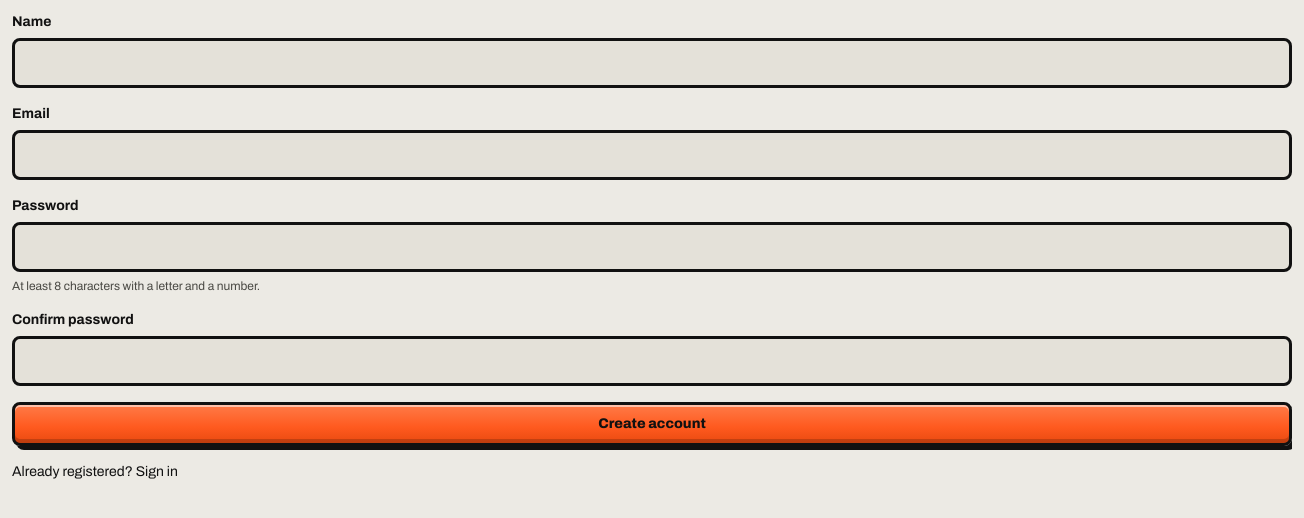
Test: RegisterForm › shows a duplicate email from the server next to the email field
This screenshot has width=1304, height=518.
Step 1. Type "Ada" into the field labelled "Name" → (652, 63), box [12,38,1292,88]
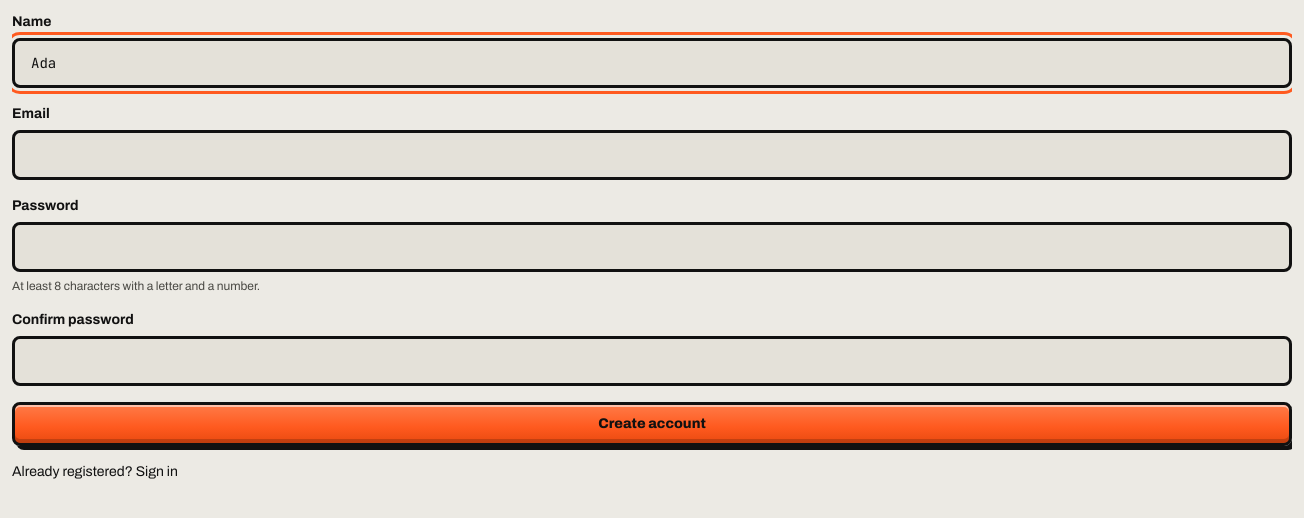
Step 2. Type "ada@example.com" into the field labelled "Email" → (652, 155), box [12,130,1292,180]
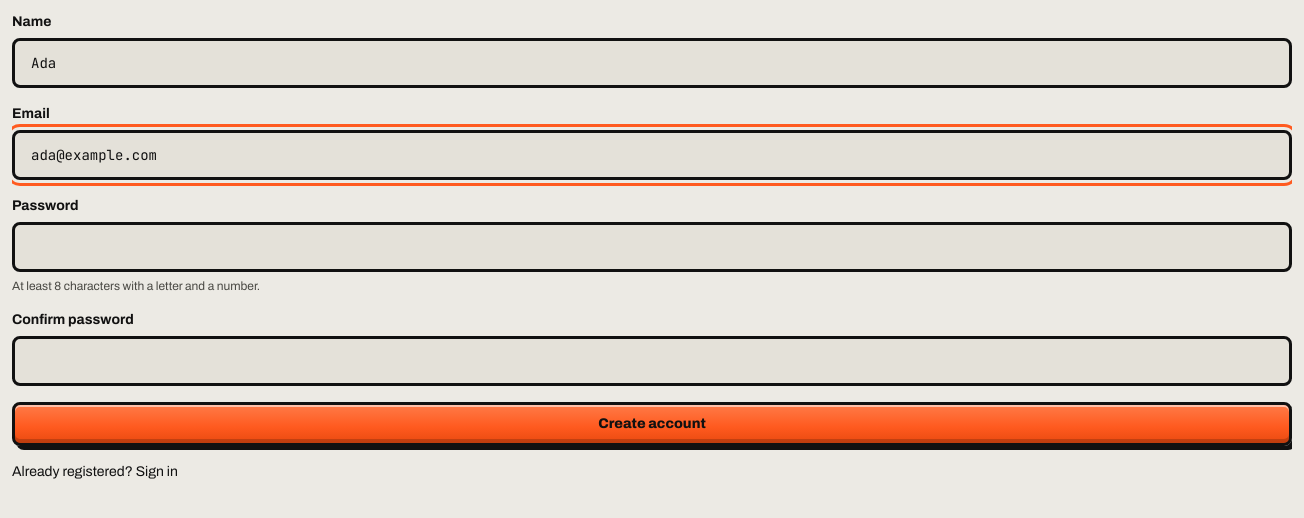
Step 3. Type "Passw0rd1" into the password field labelled "Password" → (652, 247), box [12,222,1292,272]
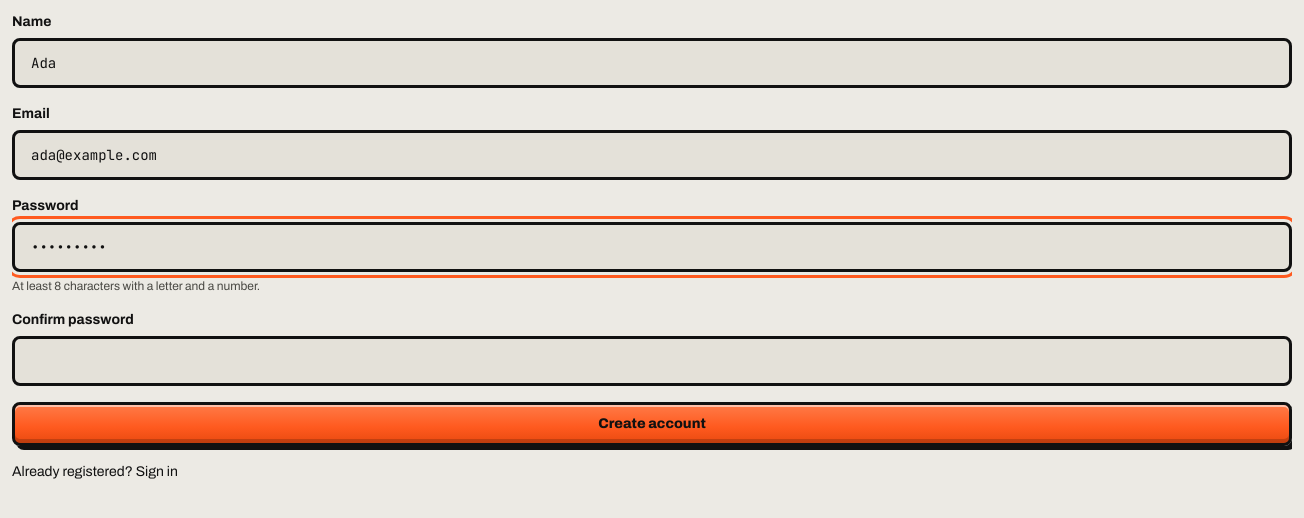
Step 4. Type "Passw0rd1" into the password field labelled "Confirm password" → (652, 361), box [12,336,1292,386]
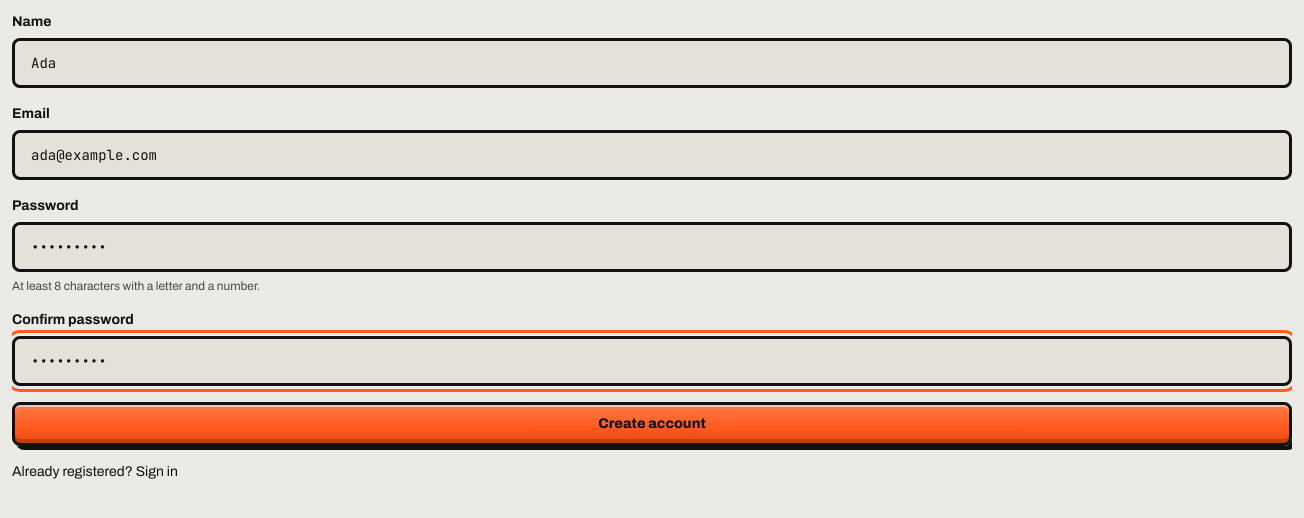
Step 5. Click the button "Create account" → click(652, 424), box [12,402,1292,446]
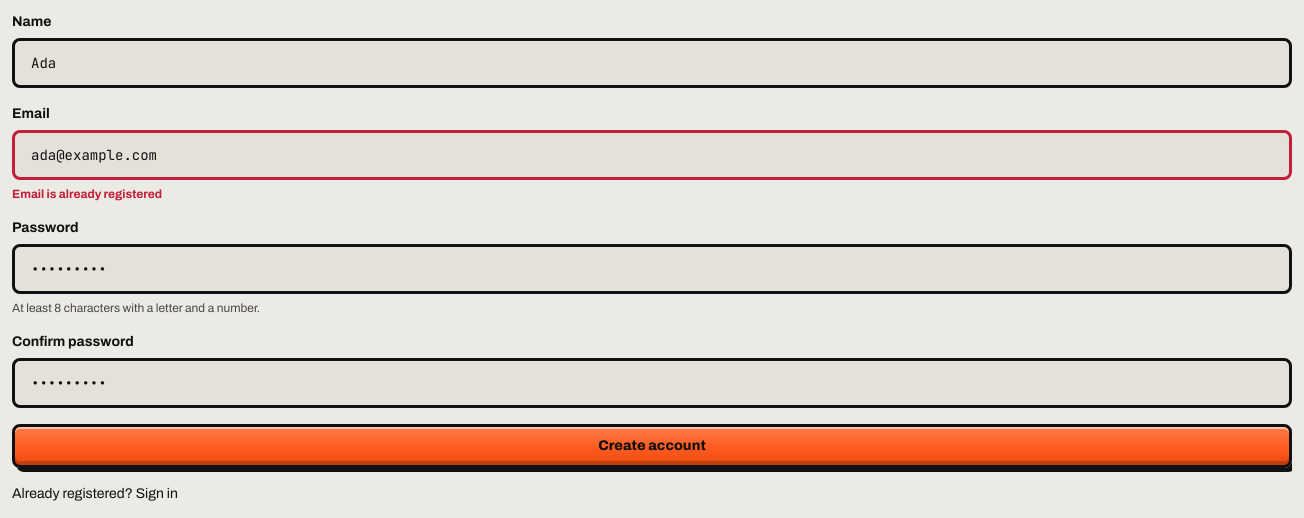
Check: the text "Email is already registered" is shown, box [12,187,162,201]
